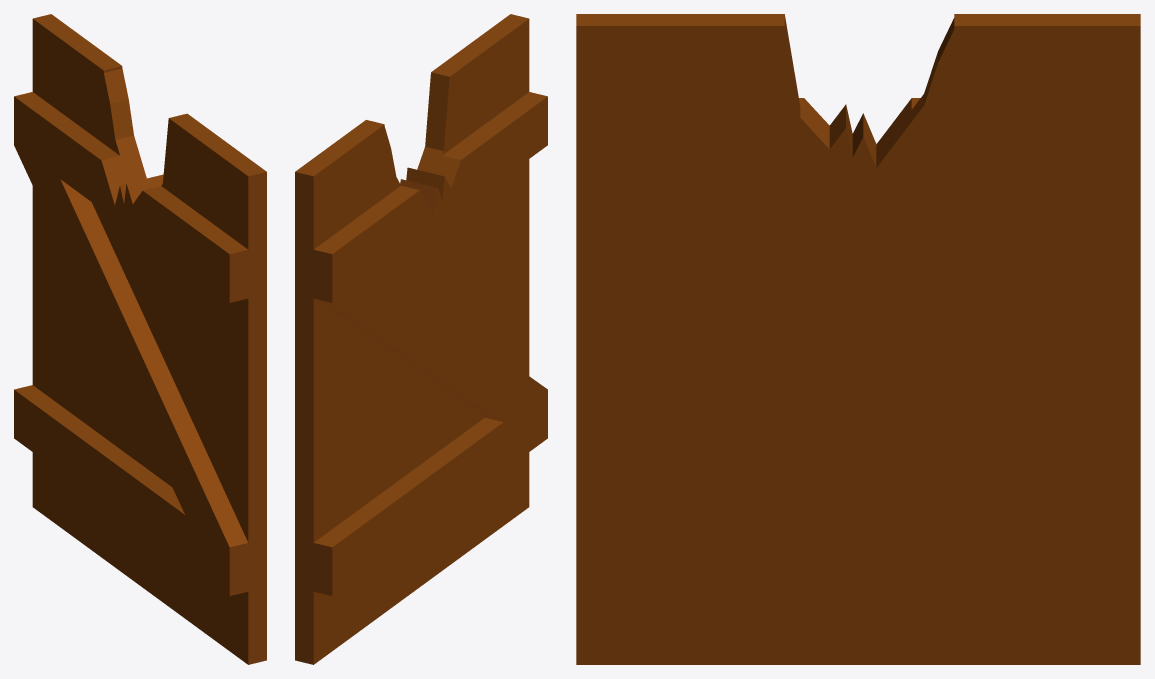
Rendered from Fence_Broken.fbx.
The picture shows the model from 3 angles, left to right: view 1: azimuth 30°, elevation 25°; view 2: azimuth 150°, elevation 25°; view 3: azimuth 270°, elevation 25°; orthographic projection. The views are drawn at different scales.
Parts seen in each view (by area): view 1: Fence2; view 2: Fence2; view 3: Fence2.
Boxes of the visible parts, box(x1,y1,x2,y2) form: Fence2: box(14, 14, 266, 664); Fence2: box(295, 14, 547, 664); Fence2: box(576, 14, 1140, 664).
Bounding box in the file's own units: 20 × 250 × 200.
